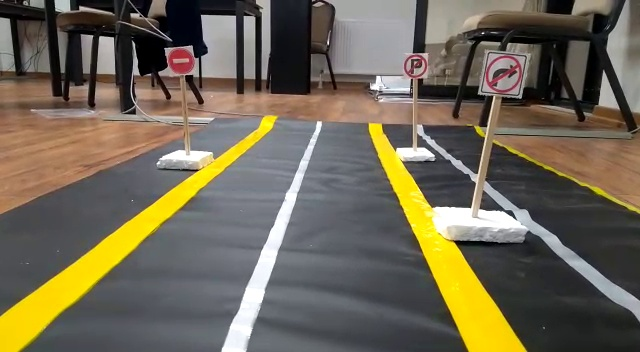girisi_olmayan_yol: (163, 45, 196, 74)
park_yapilmaz: (400, 49, 427, 77)
saga_donulmez: (479, 47, 526, 96)
